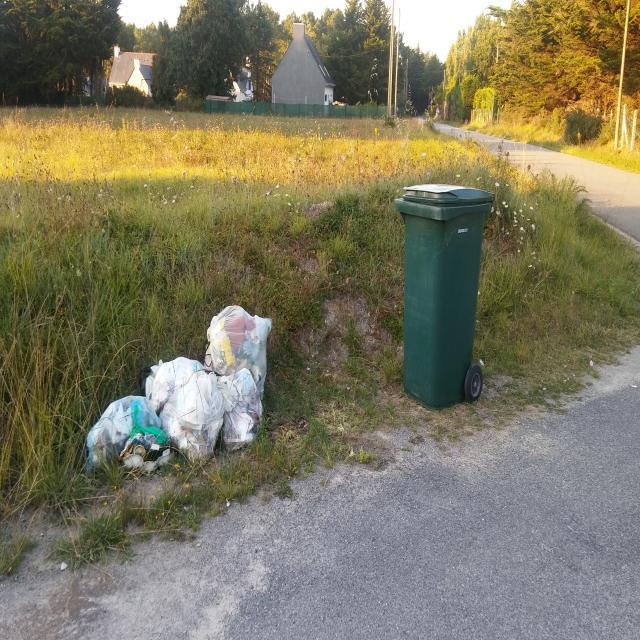garbage: (76, 298, 288, 492)
